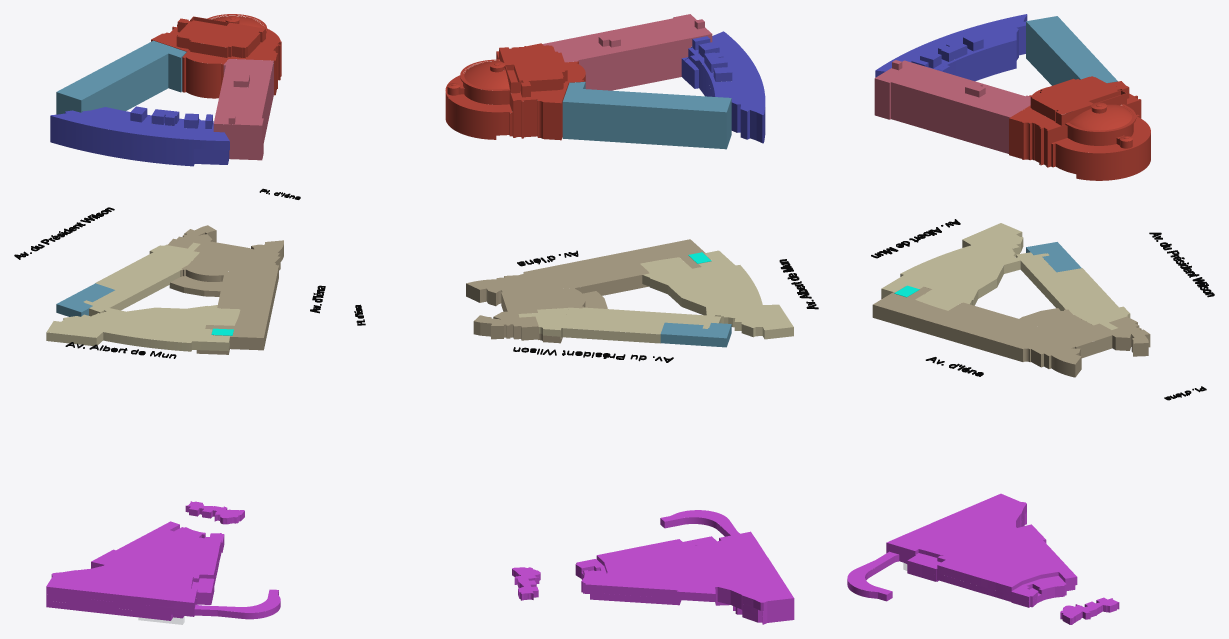
The model's file is VUE_BLOC_DEGROUPE.glb.
The picture shows the model from 3 angles, left to right: view 1: azimuth 30°, elevation 25°; view 2: azimuth 150°, elevation 25°; view 3: azimuth 270°, elevation 25°; orthographic projection. The views are drawn at different scales.
Size of the model in its own units: 150 by 217 by 134.
